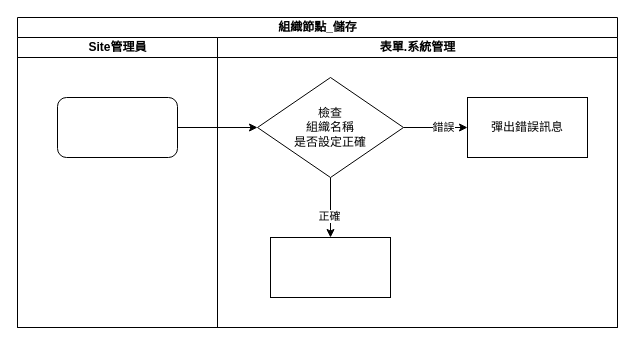
This 635x345 diagram has some shape labels left out. The centre of each missing label's shape, as x and y in pixels:
"儲存組織資料" goes at [330,267].
"點擊按鈕.儲存" goes at [117,127].
